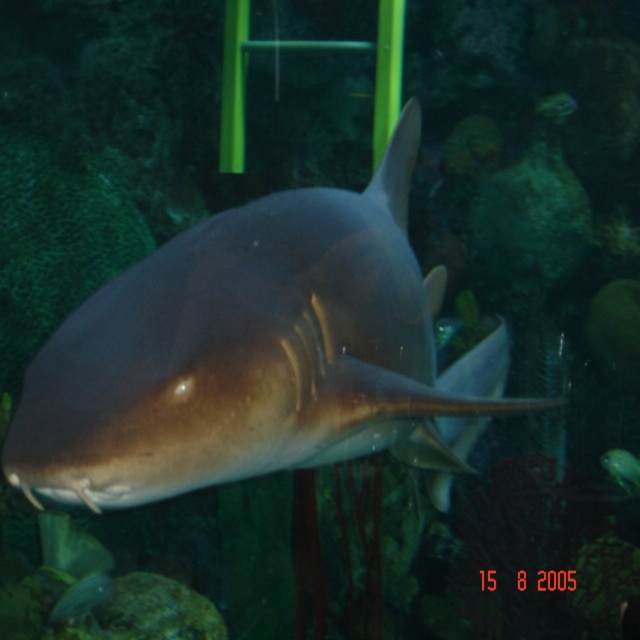Shark: (0, 81, 525, 560)
